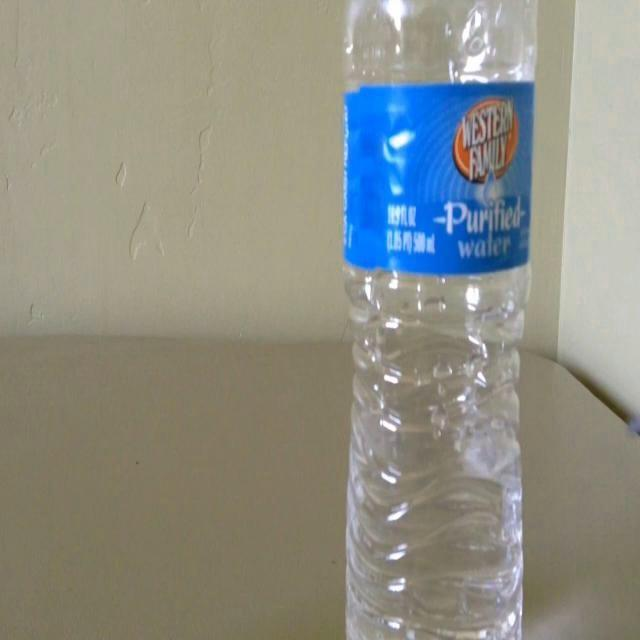bottle: (345, 0, 538, 640)
